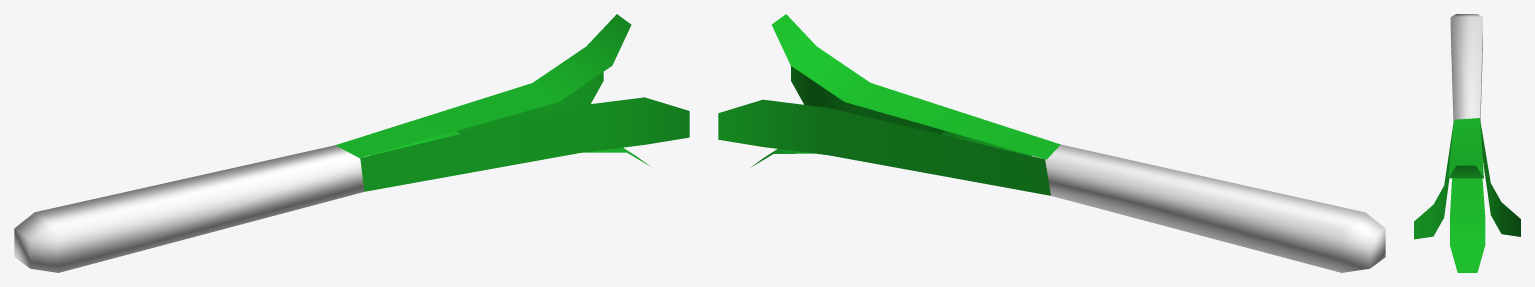
Rendered from leek_smooth.fbx.
The picture shows the model from 3 angles, left to right: view 1: azimuth 30°, elevation 25°; view 2: azimuth 150°, elevation 25°; view 3: azimuth 270°, elevation 25°; orthographic projection. The views are drawn at different scales.
Parts seen in each view (by area): view 1: leek; view 2: leek; view 3: leek.
Boxes of the visible parts, bbox=[...] form: leek: bbox=[14, 14, 689, 272]; leek: bbox=[718, 14, 1385, 272]; leek: bbox=[1414, 14, 1520, 272].
Size of the model in its own units: 237 by 53.61 by 51.85.
